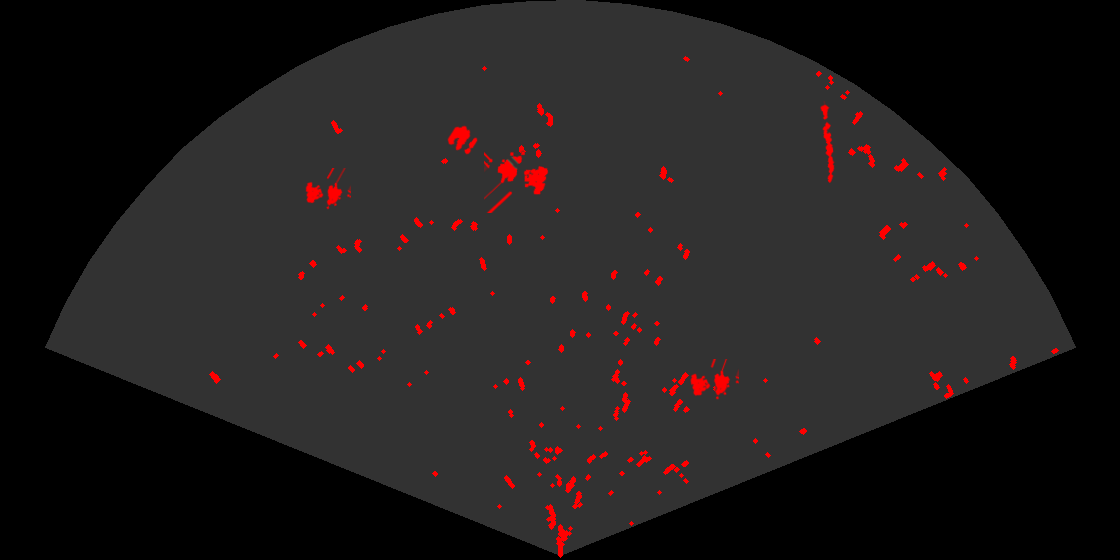ball: (446, 124, 479, 156)
cage: (484, 150, 550, 213), (689, 359, 739, 401), (304, 168, 351, 211)
chain: (819, 101, 836, 183)
